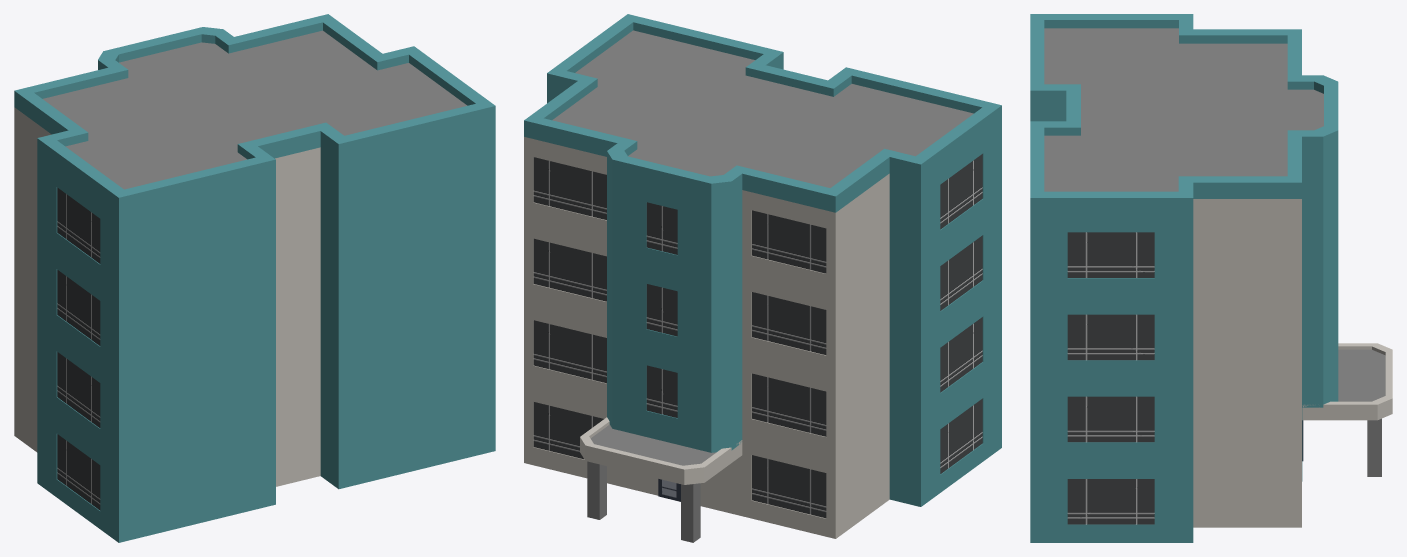
Rendered from spw-urban-bldg-01.glb.
3 views of the same model, side by side, from view 1: azimuth 30°, elevation 25°; view 2: azimuth 150°, elevation 25°; view 3: azimuth 270°, elevation 25° (orthographic).
Visible parts, largest first — view 1: SPW_Urban_Bldg_01; view 2: SPW_Urban_Bldg_01; view 3: SPW_Urban_Bldg_01.
Boxes of the visible parts, x1,y1,x2,y2 form: SPW_Urban_Bldg_01: (14, 14, 495, 542); SPW_Urban_Bldg_01: (524, 14, 1001, 542); SPW_Urban_Bldg_01: (1030, 14, 1392, 542).
Size of the model in its own units: 21 by 18.37 by 17.5.
1 material, 1 textured.
